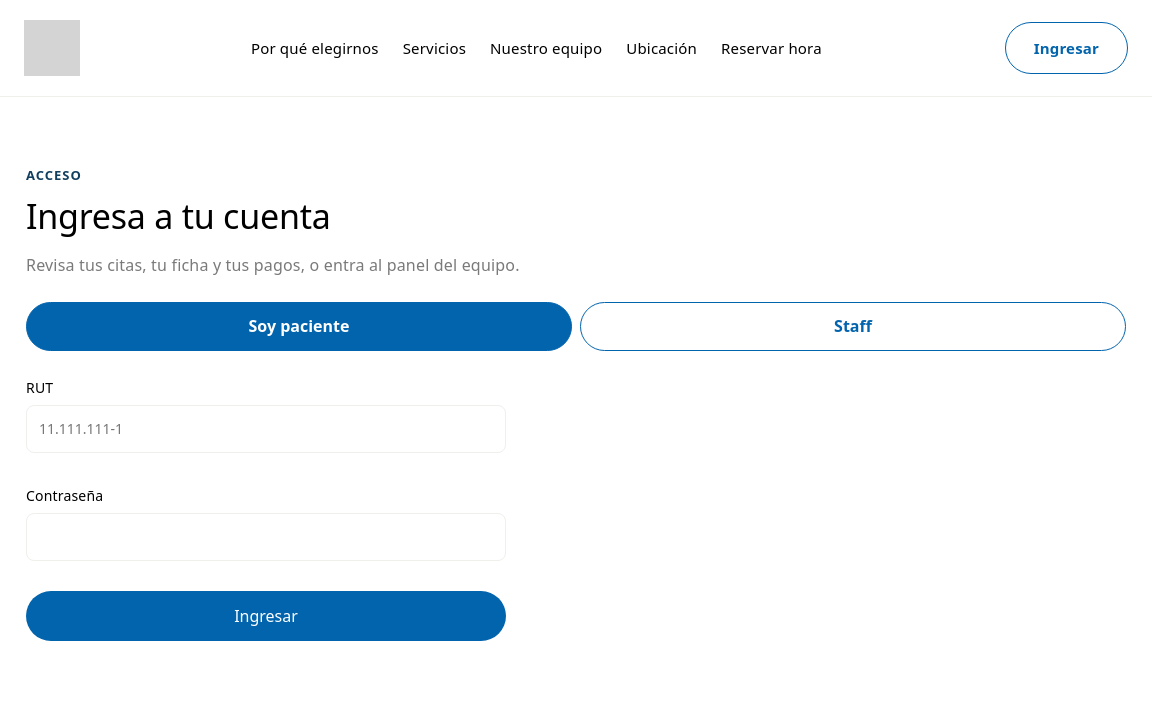
Test: LoginPage › el tab 'Staff' cambia el campo a Usuario
Click the button "Staff".
click(853, 327)  # box [580, 302, 1126, 351]
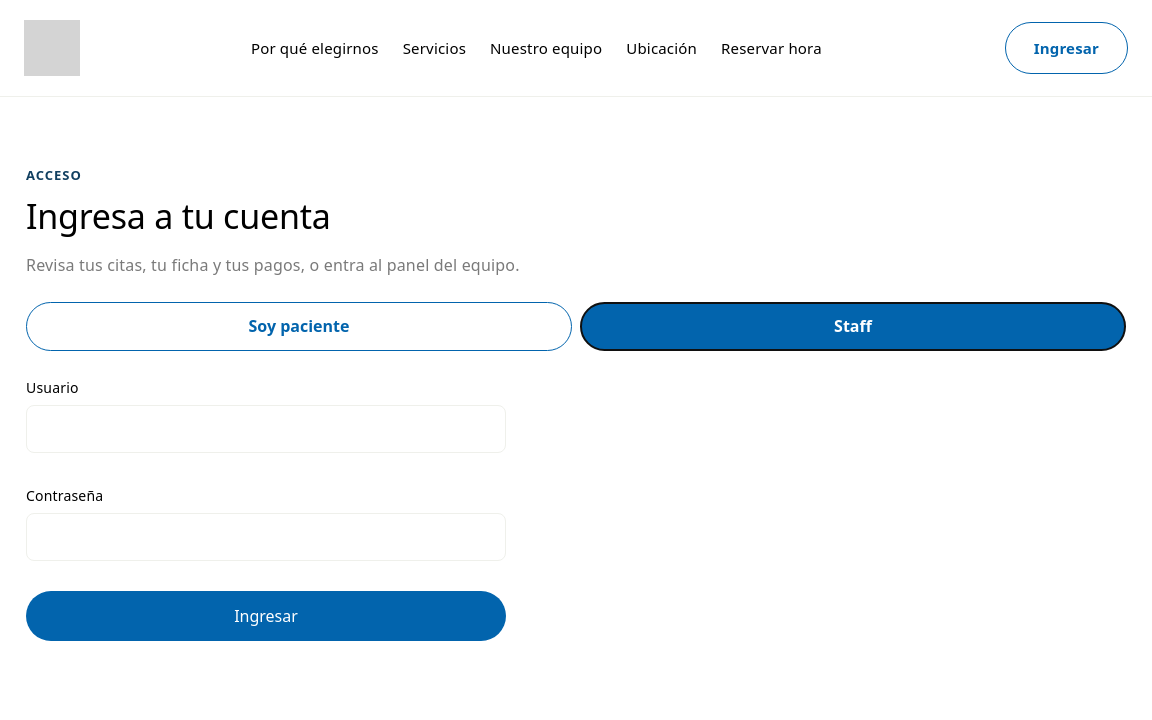
Expected: the field with placeholder "11.111.111-1" is not shown
Expected: the text labelled "RUT" is gone
